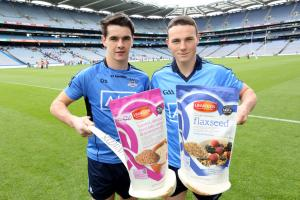player: (157, 17, 241, 173), (72, 10, 138, 175)
